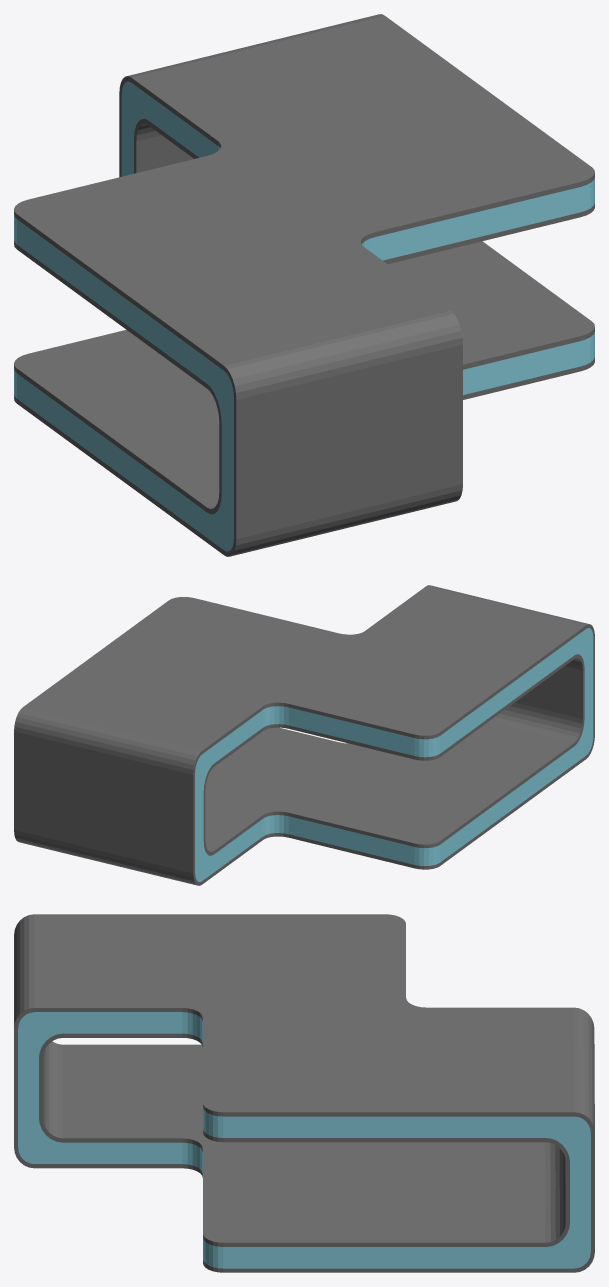
Rendered from stand.fbx.
3 views of the same model, one above another, from view 1: azimuth 30°, elevation 25°; view 2: azimuth 150°, elevation 25°; view 3: azimuth 270°, elevation 25° (orthographic). The views are drawn at different scales.
Parts seen in each view (by area): view 1: stand_01; view 2: stand_01; view 3: stand_01.
Boxes of the visible parts, <box> form: stand_01: <box>14,14,594,556</box>; stand_01: <box>14,585,594,885</box>; stand_01: <box>14,914,594,1272</box>.
Bounding box in the file's own units: 1.46 × 1.81 × 0.5506.
